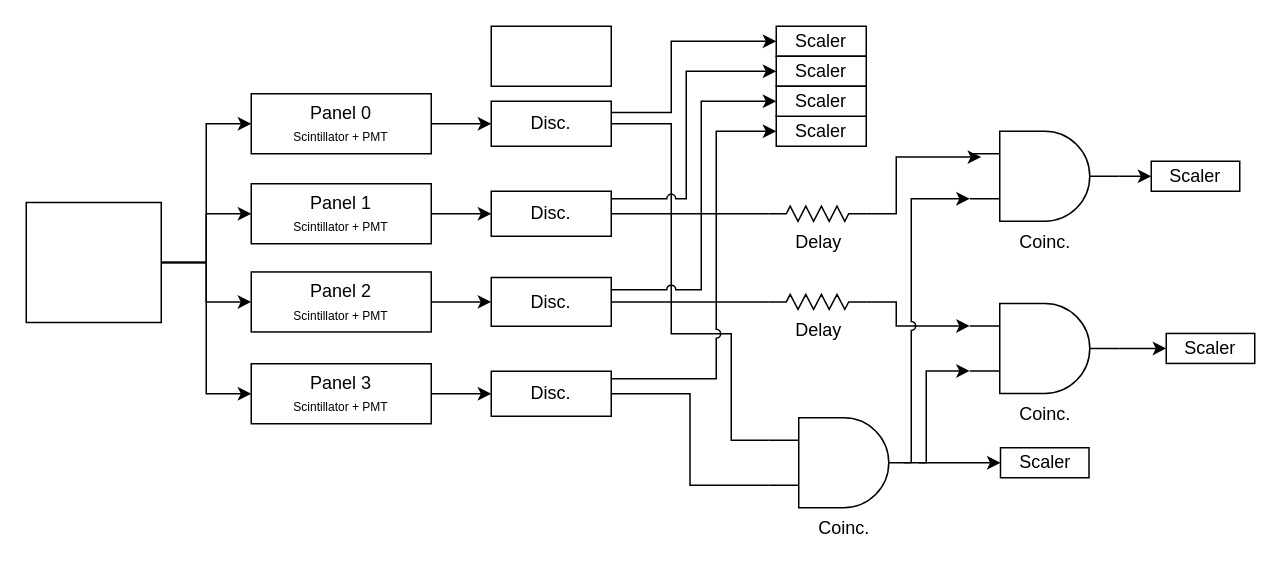
Image size: 1281x566. Some labels were removed from this diagram. Here are the shapes that lost their labels. From the top down, the centre of each, then its label:
At pixel 550 55: "LeCroy Model 623B Discriminator".
At pixel 93 261: "CAEN N1470 4 Channel HV-Power Supply".
